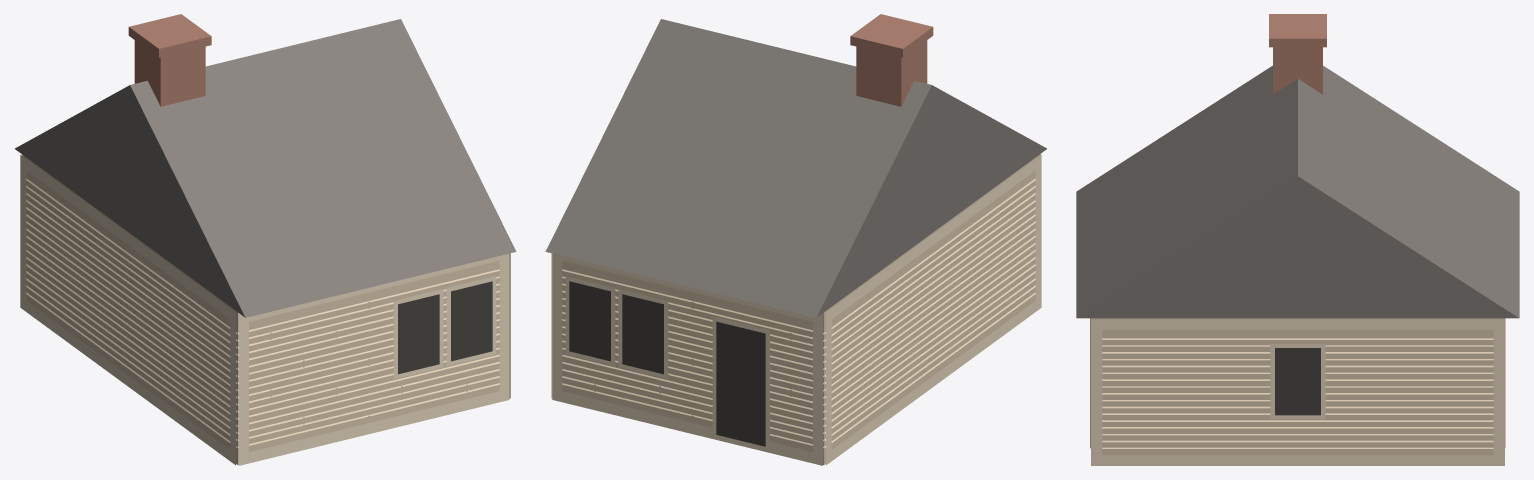
Rendered from recon_1835_north_d3_002__inferred_1835.glb.
3 renders of one model, left to right at view 1: azimuth 30°, elevation 25°; view 2: azimuth 150°, elevation 25°; view 3: azimuth 270°, elevation 25°, orthographic. The views are drawn at different scales.
Visible parts, largest first — view 1: recon_1835_north_d3_002__inferred_1835; view 2: recon_1835_north_d3_002__inferred_1835; view 3: recon_1835_north_d3_002__inferred_1835.
Part boxes in pixels (left/top/right/bottom): recon_1835_north_d3_002__inferred_1835: left=15, top=14, right=516, bottom=465; recon_1835_north_d3_002__inferred_1835: left=545, top=14, right=1046, bottom=465; recon_1835_north_d3_002__inferred_1835: left=1076, top=14, right=1519, bottom=465.
Size of the model in its own units: 5.14 by 6.16 by 7.48.
